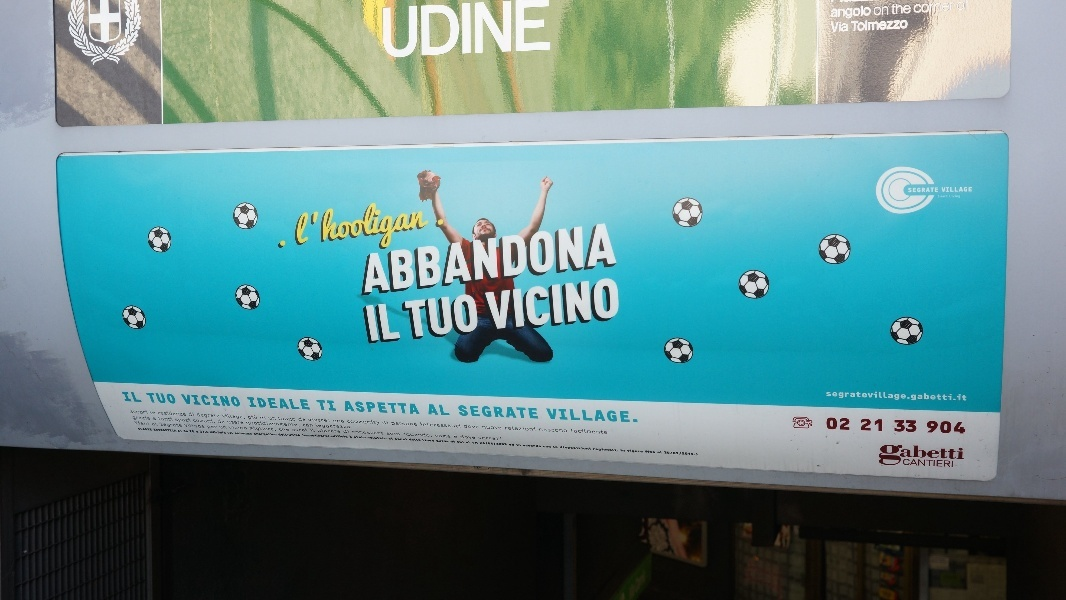text: (369, 223, 384, 298), (385, 223, 400, 298), (401, 223, 416, 298), (417, 223, 432, 298), (433, 223, 448, 298), (449, 223, 464, 298), (465, 223, 480, 298), (481, 223, 496, 298), (497, 223, 512, 298), (513, 223, 528, 298), (529, 223, 544, 298), (545, 223, 560, 298), (561, 223, 576, 298), (577, 223, 592, 298), (593, 223, 608, 298), (305, 196, 320, 264), (321, 196, 336, 264), (337, 196, 352, 264), (353, 196, 368, 264), (369, 196, 384, 264), (385, 196, 400, 264), (401, 196, 416, 264), (417, 196, 432, 264), (433, 196, 448, 264), (385, 1, 400, 58), (401, 1, 416, 58), (417, 1, 432, 58), (433, 1, 448, 58), (449, 1, 464, 58), (465, 1, 480, 58), (481, 1, 496, 58), (497, 1, 512, 58), (513, 1, 528, 58), (529, 1, 544, 58), (609, 223, 620, 298), (497, 277, 512, 331), (513, 277, 528, 331), (529, 277, 544, 331), (545, 277, 560, 331), (561, 277, 576, 331), (577, 277, 592, 331), (593, 277, 608, 331), (465, 294, 481, 341), (417, 294, 432, 341), (433, 294, 448, 341), (449, 294, 464, 341), (609, 277, 622, 331), (402, 294, 416, 341), (484, 277, 496, 331), (369, 302, 384, 345), (385, 302, 400, 345), (295, 196, 304, 264), (545, 1, 552, 58), (881, 444, 896, 467), (897, 444, 912, 467), (913, 444, 928, 467), (929, 444, 944, 467), (945, 444, 960, 467), (364, 223, 368, 298), (362, 302, 368, 345), (833, 5, 848, 22), (849, 5, 864, 22), (833, 417, 848, 432), (929, 420, 944, 435), (945, 420, 960, 435), (865, 18, 880, 33), (881, 18, 896, 33), (465, 405, 480, 420), (481, 405, 496, 420), (497, 405, 512, 420), (513, 405, 528, 420), (193, 394, 208, 408), (209, 394, 224, 408), (225, 394, 240, 408), (353, 401, 368, 415), (369, 401, 384, 415), (385, 401, 400, 415), (401, 401, 416, 415), (561, 409, 576, 423), (577, 409, 592, 423), (593, 409, 608, 423), (609, 409, 624, 423), (625, 409, 639, 423), (865, 419, 880, 432), (897, 420, 912, 433), (851, 18, 864, 33), (913, 2, 928, 15), (929, 2, 944, 15), (257, 397, 272, 410), (273, 397, 288, 410), (289, 397, 304, 410), (547, 409, 560, 423), (833, 390, 848, 402), (849, 390, 864, 402), (865, 390, 880, 402), (881, 390, 896, 402), (897, 390, 912, 402), (913, 390, 928, 402), (929, 390, 944, 402), (945, 390, 960, 402), (897, 3, 912, 15), (433, 404, 448, 416), (833, 22, 849, 33), (321, 400, 337, 411), (913, 458, 928, 469), (929, 458, 944, 469), (897, 18, 908, 33), (129, 392, 144, 403), (145, 393, 160, 404), (161, 393, 176, 404), (529, 405, 540, 420), (181, 394, 192, 408), (945, 2, 955, 15), (865, 5, 872, 22), (247, 397, 256, 410), (433, 422, 448, 429), (903, 458, 912, 469), (945, 458, 954, 469), (345, 401, 352, 415), (961, 444, 965, 467), (419, 422, 432, 429), (449, 422, 462, 429), (673, 451, 688, 457), (577, 429, 592, 435), (593, 429, 608, 435), (513, 426, 528, 432), (353, 420, 368, 426), (458, 405, 464, 420), (401, 302, 403, 345), (961, 1, 969, 11), (881, 6, 889, 16), (417, 433, 433, 438), (337, 424, 353, 429), (305, 397, 311, 410), (827, 417, 832, 432), (961, 420, 966, 435), (561, 446, 576, 451), (577, 446, 592, 451), (161, 423, 176, 428), (257, 427, 272, 432), (321, 429, 336, 434), (321, 424, 336, 429), (257, 422, 272, 427), (273, 422, 288, 427), (193, 419, 208, 424), (161, 412, 176, 417), (225, 414, 240, 419), (945, 187, 960, 192), (913, 188, 928, 193), (961, 390, 967, 402), (130, 410, 144, 415), (369, 420, 380, 426), (122, 392, 128, 403), (403, 433, 416, 438), (161, 417, 174, 422), (827, 390, 832, 402), (891, 3, 896, 15), (874, 6, 880, 16), (593, 448, 608, 452), (481, 442, 496, 446), (305, 434, 320, 438), (193, 424, 205, 429), (353, 431, 368, 435), (369, 431, 384, 435), (481, 437, 496, 441), (545, 429, 560, 433), (465, 425, 480, 429), (289, 422, 301, 427), (308, 418, 320, 423), (383, 1, 384, 58), (658, 451, 672, 455), (482, 426, 496, 430), (177, 419, 191, 423), (197, 413, 208, 418), (209, 413, 220, 418), (961, 187, 972, 192), (689, 451, 698, 457), (860, 419, 864, 432), (913, 420, 917, 433), (387, 432, 400, 436), (227, 421, 240, 425), (177, 412, 187, 417), (278, 417, 288, 422), (929, 188, 939, 193), (664, 451, 672, 457), (161, 429, 177, 432), (228, 426, 240, 430), (132, 416, 144, 420), (260, 416, 272, 420), (369, 437, 384, 440), (401, 423, 416, 426), (247, 422, 256, 427), (321, 418, 330, 423), (497, 442, 508, 446), (316, 400, 320, 411), (210, 432, 224, 435), (178, 430, 192, 433), (505, 426, 512, 432), (529, 426, 536, 432), (417, 401, 420, 415), (609, 448, 619, 452), (134, 422, 144, 426), (184, 424, 192, 429), (310, 429, 320, 433), (150, 411, 160, 415), (627, 450, 640, 453), (529, 445, 542, 448), (516, 444, 528, 447), (436, 440, 448, 443), (321, 434, 330, 438), (337, 436, 349, 439), (289, 434, 301, 437), (241, 433, 253, 436), (228, 432, 240, 435), (279, 428, 288, 432), (292, 429, 304, 432), (343, 430, 352, 434), (436, 435, 448, 438), (570, 429, 576, 435), (429, 404, 432, 416), (249, 427, 256, 432), (209, 419, 216, 424), (289, 417, 296, 422), (645, 451, 656, 454), (465, 436, 476, 439), (152, 422, 160, 426), (497, 437, 505, 441), (248, 416, 256, 420), (957, 1, 960, 11), (422, 439, 432, 442), (257, 434, 272, 436), (177, 423, 183, 428), (454, 436, 464, 439), (950, 195, 960, 198), (466, 442, 480, 444), (354, 437, 368, 439), (241, 426, 248, 430), (561, 429, 568, 433), (153, 417, 160, 421), (279, 434, 288, 437), (391, 423, 400, 426), (305, 424, 314, 427), (881, 419, 883, 432), (894, 420, 896, 433), (451, 441, 464, 443), (273, 427, 278, 432), (315, 424, 320, 429), (241, 414, 246, 419), (200, 431, 208, 434), (196, 431, 208, 433), (184, 430, 192, 433), (145, 428, 153, 431), (209, 426, 217, 429), (497, 426, 503, 430), (348, 420, 352, 426), (337, 420, 345, 423), (218, 420, 224, 424), (145, 416, 151, 420), (449, 404, 451, 416), (879, 444, 880, 467), (830, 22, 832, 33), (389, 438, 400, 440), (177, 393, 179, 404), (553, 446, 560, 449), (457, 441, 464, 444), (409, 439, 416, 442), (153, 429, 160, 432), (145, 422, 150, 426), (337, 429, 341, 434), (539, 429, 544, 433), (299, 418, 304, 422), (908, 188, 912, 193), (138, 428, 144, 431), (938, 195, 944, 198), (831, 5, 832, 22), (385, 421, 389, 425), (241, 421, 245, 425), (188, 413, 192, 417), (849, 417, 850, 432), (927, 420, 928, 435), (523, 445, 528, 448), (331, 436, 336, 439), (235, 433, 240, 436), (317, 429, 320, 434), (145, 410, 148, 415), (221, 414, 224, 419), (545, 446, 552, 448), (473, 442, 480, 444), (401, 439, 408, 441), (241, 394, 242, 408), (620, 449, 624, 452), (417, 439, 421, 442), (220, 426, 224, 429), (460, 436, 464, 439), (269, 417, 272, 421), (273, 417, 276, 421), (945, 195, 949, 198), (395, 439, 400, 441), (158, 417, 160, 422), (158, 412, 160, 417), (942, 187, 944, 192), (641, 450, 644, 453), (509, 444, 512, 447), (385, 437, 388, 440), (305, 429, 308, 432), (333, 420, 336, 423), (302, 434, 304, 438), (273, 434, 277, 436), (478, 437, 480, 441), (193, 413, 195, 417), (513, 444, 515, 447), (433, 439, 435, 442), (350, 436, 352, 439), (225, 432, 227, 435), (190, 430, 192, 433), (193, 430, 195, 433), (225, 426, 227, 429), (449, 435, 451, 438), (302, 424, 304, 427), (254, 434, 256, 436), (289, 428, 290, 432), (383, 421, 384, 425), (225, 420, 226, 424), (175, 419, 176, 423), (257, 416, 258, 420), (305, 418, 306, 422), (625, 449, 626, 452), (367, 437, 368, 440), (207, 426, 208, 429), (417, 423, 418, 426), (543, 446, 544, 448)
